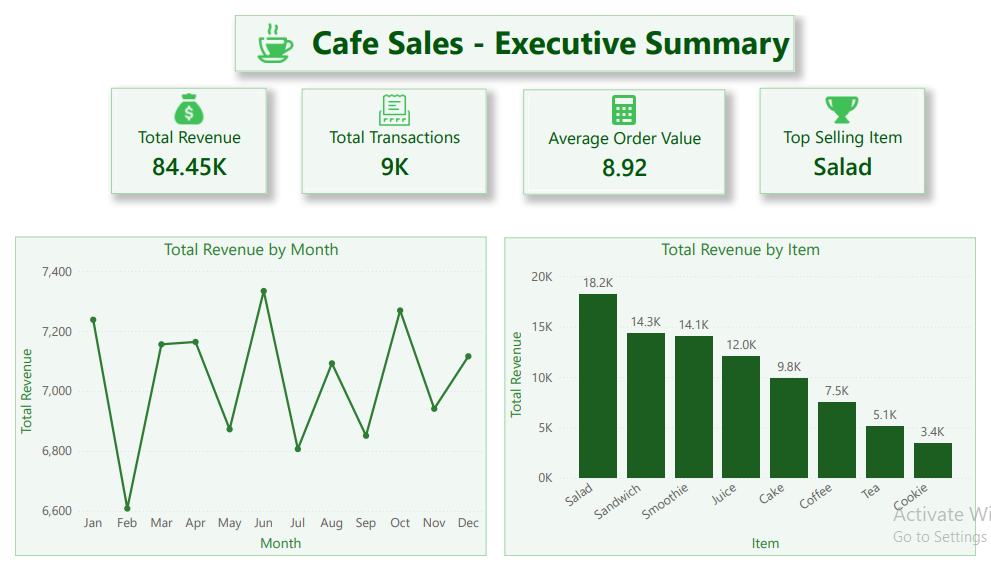

Layout of this report page (visuals, bound fields, positions):
{"tool":"powerbi","page":{"name":"Executive Summary","canvas":[1280,720],"ordinal":0},"visuals":[{"type":"lineChart","fields":{"Category":["DateTable.Month"],"Y":["clean_cafe_sales.Total Revenue"]},"box":[0,295,628.3,425],"z":0},{"type":"clusteredColumnChart","fields":{"Category":["clean_cafe_sales.Item"],"Y":["clean_cafe_sales.Total Revenue"]},"box":[652,296,628,424],"z":1000},{"type":"textbox","box":[292.5,0,745,75],"z":2000},{"type":"cardVisual","fields":{"Data":["clean_cafe_sales.Total Revenue"]},"box":[128.3,96.7,206.7,141.7],"z":3000},{"type":"cardVisual","fields":{"Data":["clean_cafe_sales.Total Transactions"]},"box":[381.7,98.3,246.7,140],"z":4000},{"type":"cardVisual","fields":{"Data":["clean_cafe_sales.Average Order Value"]},"box":[677.1,98.6,268.6,140],"z":5000},{"type":"cardVisual","fields":{"Data":["clean_cafe_sales.Top Selling Item"]},"box":[991.7,96.7,220,141.7],"z":6000},{"type":"image","box":[292.5,10,107.5,52.5],"z":7000},{"type":"image","box":[205,103.3,53.3,46.7],"z":8000},{"type":"image","box":[478.3,103.3,53.3,46.7],"z":9000},{"type":"image","box":[785,103.3,51.7,46.7],"z":10000},{"type":"image","box":[1073.3,103.3,56.7,46.7],"z":11000}]}

Visuals, with their boxes in screenshot pixels (x1, y1, x2, y2), scaled from the page's 1280x720 canvas onto the 991x569 screenshot:
lineChart - DateTable.Month x clean_cafe_sales.Total Revenue: bbox=[0, 233, 486, 568]
clusteredColumnChart - clean_cafe_sales.Item x clean_cafe_sales.Total Revenue: bbox=[505, 234, 990, 568]
textbox: bbox=[226, 0, 803, 59]
cardVisual - clean_cafe_sales.Total Revenue: bbox=[99, 76, 259, 188]
cardVisual - clean_cafe_sales.Total Transactions: bbox=[296, 78, 487, 188]
cardVisual - clean_cafe_sales.Average Order Value: bbox=[524, 78, 732, 189]
cardVisual - clean_cafe_sales.Top Selling Item: bbox=[768, 76, 938, 188]
image: bbox=[226, 8, 310, 49]
image: bbox=[159, 82, 200, 119]
image: bbox=[370, 82, 412, 119]
image: bbox=[608, 82, 648, 119]
image: bbox=[831, 82, 875, 119]
